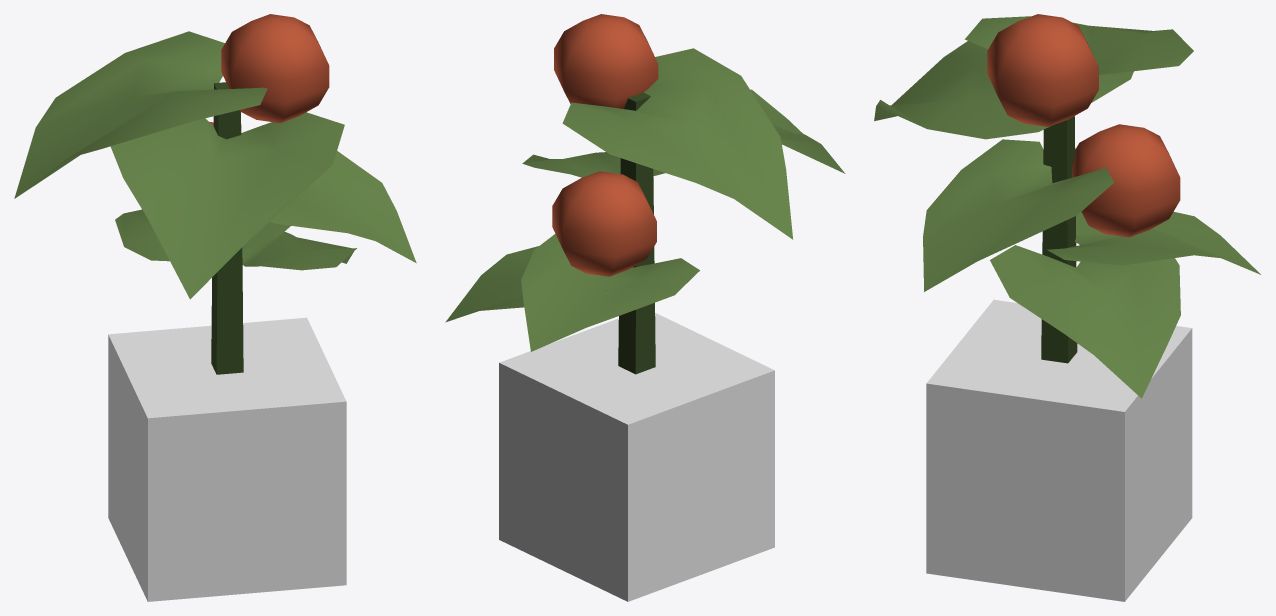
The model's file is plant1.fbx.
The picture shows the model from 3 angles, left to right: view 1: azimuth 30°, elevation 25°; view 2: azimuth 150°, elevation 25°; view 3: azimuth 270°, elevation 25°; orthographic projection. The views are drawn at different scales.
Parts seen in each view (by area): view 1: plant.001, plant1; view 2: plant1, plant.001; view 3: plant.001, plant1.
Boxes of the visible parts, x1=… form: plant.001: x1=14, y1=14, x2=416, y2=374; plant1: x1=108, y1=317, x2=346, y2=601; plant1: x1=499, y1=312, x2=774, y2=601; plant.001: x1=445, y1=14, x2=845, y2=374; plant.001: x1=874, y1=14, x2=1260, y2=398; plant1: x1=926, y1=299, x2=1192, y2=601.
Bounding box in the file's own units: 81 × 118 × 75.89.
